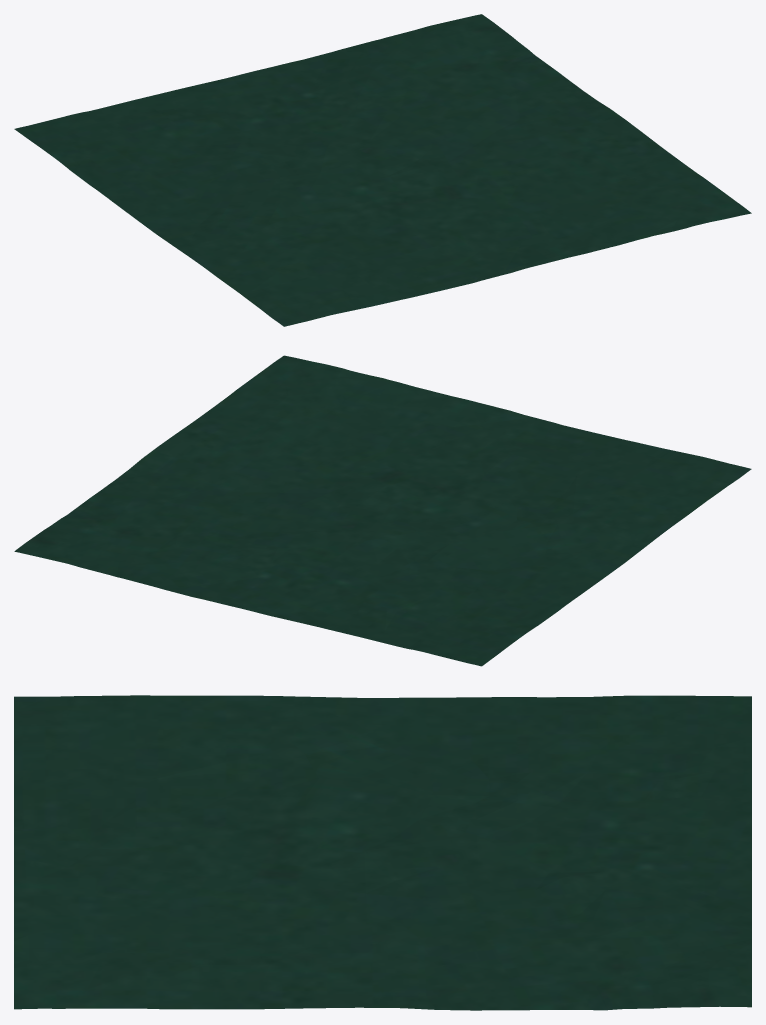
3 renders of one model, top to bottom at view 1: azimuth 30°, elevation 25°; view 2: azimuth 150°, elevation 25°; view 3: azimuth 270°, elevation 25°, orthographic. The views are drawn at different scales.
Size of the model in its own units: 52.22 by 0.5038 by 52.22.
Materials: 2 (2 with a texture image).
